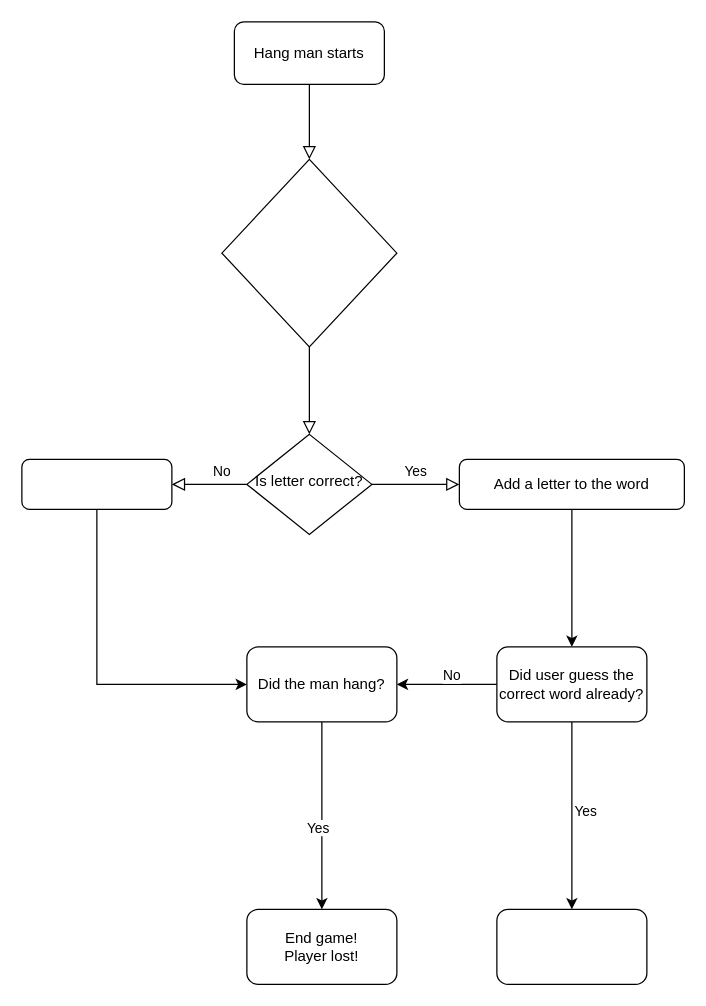
Image size: 706x1006. Some labels were removed from this diagram. The shapes that lost their labels are listed below. From the top down, each one's centre as x and y in pixels, then its label:
At [309,252]: "Ask a user to input a letter to guess the word".
At [96,483]: "Add a step to hangman".
At [571,946]: "End game! Player won!".
